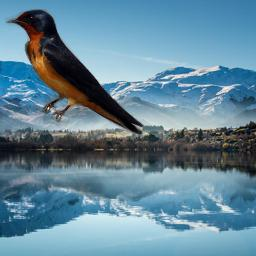Swallow: (5, 9, 145, 138)
